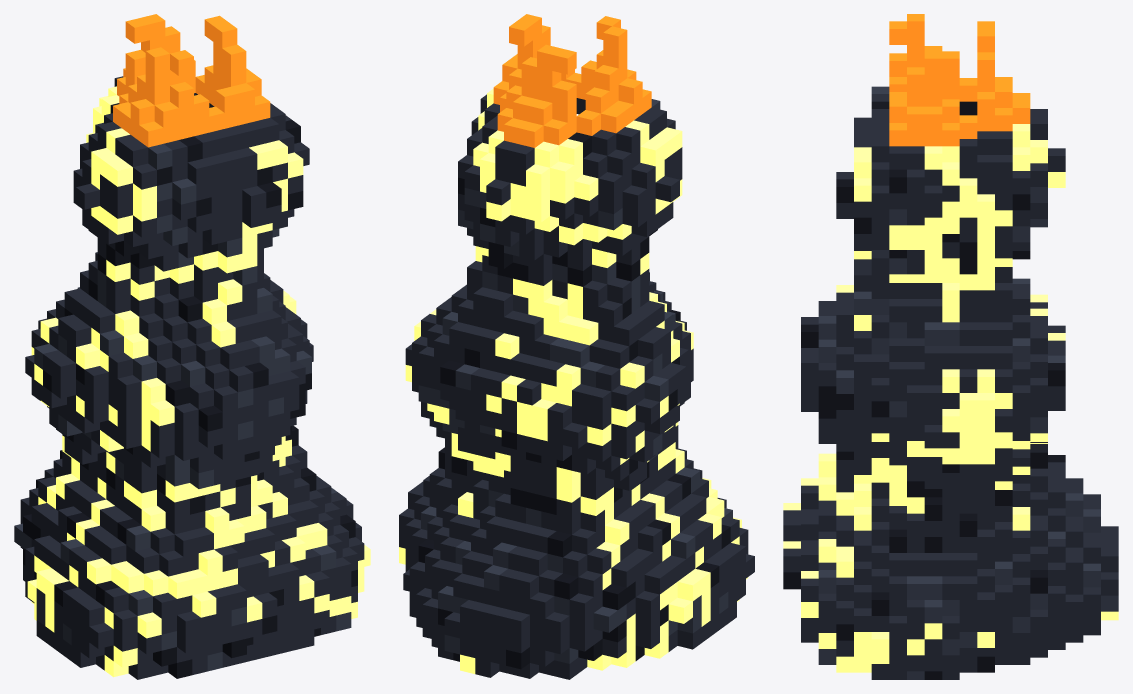
Rendered from hot_vent.glb.
The picture shows the model from 3 angles, left to right: view 1: azimuth 30°, elevation 25°; view 2: azimuth 150°, elevation 25°; view 3: azimuth 270°, elevation 25°; orthographic projection.
Visible parts, largest first — view 1: vent; view 2: vent; view 3: vent.
Part boxes in pixels (bbox=[...]): vent: bbox=[14, 14, 370, 679]; vent: bbox=[399, 14, 754, 679]; vent: bbox=[783, 14, 1118, 679].
Size of the model in its own units: 1.19 by 2.25 by 1.19.
Materials: 1 (1 with a texture image).
